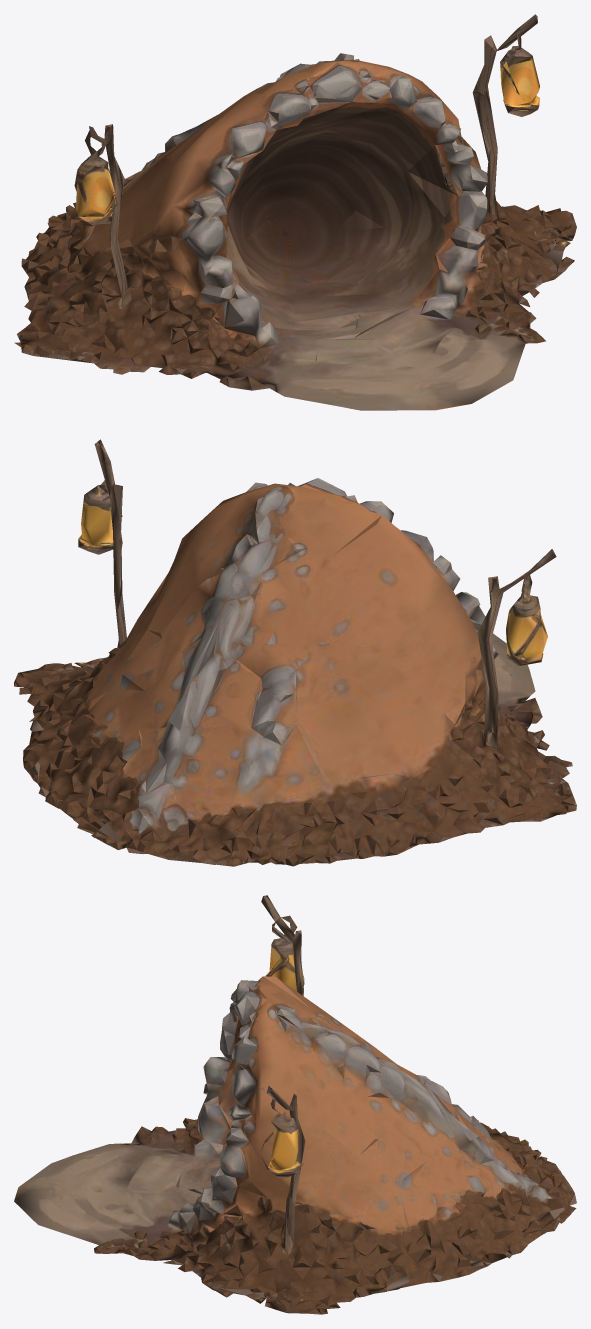
File: yuvagiris.glb
3 views of the same model, one above another, from view 1: azimuth 30°, elevation 25°; view 2: azimuth 150°, elevation 25°; view 3: azimuth 270°, elevation 25° (orthographic). The views are drawn at different scales.
Parts seen in each view (by area): view 1: prop; view 2: prop; view 3: prop.
Boxes of the visible parts, left/top/right/bottom form: prop: left=14, top=14, right=576, bottom=410; prop: left=14, top=439, right=576, bottom=866; prop: left=14, top=895, right=576, bottom=1314.
Size of the model in its own units: 1.89 by 0.773 by 1.9.
Materials: 1 (1 with a texture image).
